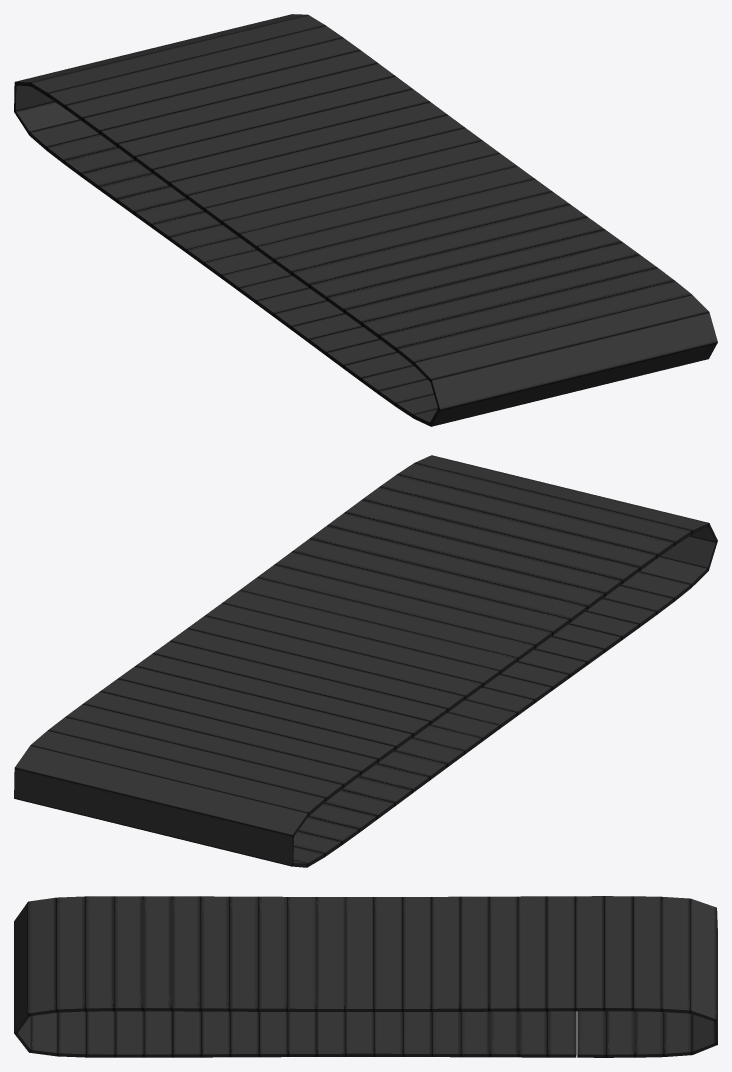
The model's file is ベルトコンベヤー.fbx.
3 views of the same model, one above another, from view 1: azimuth 30°, elevation 25°; view 2: azimuth 150°, elevation 25°; view 3: azimuth 270°, elevation 25° (orthographic). The views are drawn at different scales.
Parts seen in each view (by area): view 1: 平面; view 2: 平面; view 3: 平面.
Part boxes in pixels (x1,y1,x2,y2): 平面: [14, 14, 717, 426]; 平面: [14, 455, 717, 867]; 平面: [14, 896, 717, 1057].
Size of the model in its own units: 300 by 62.2 by 797.
1 material, 1 textured.
